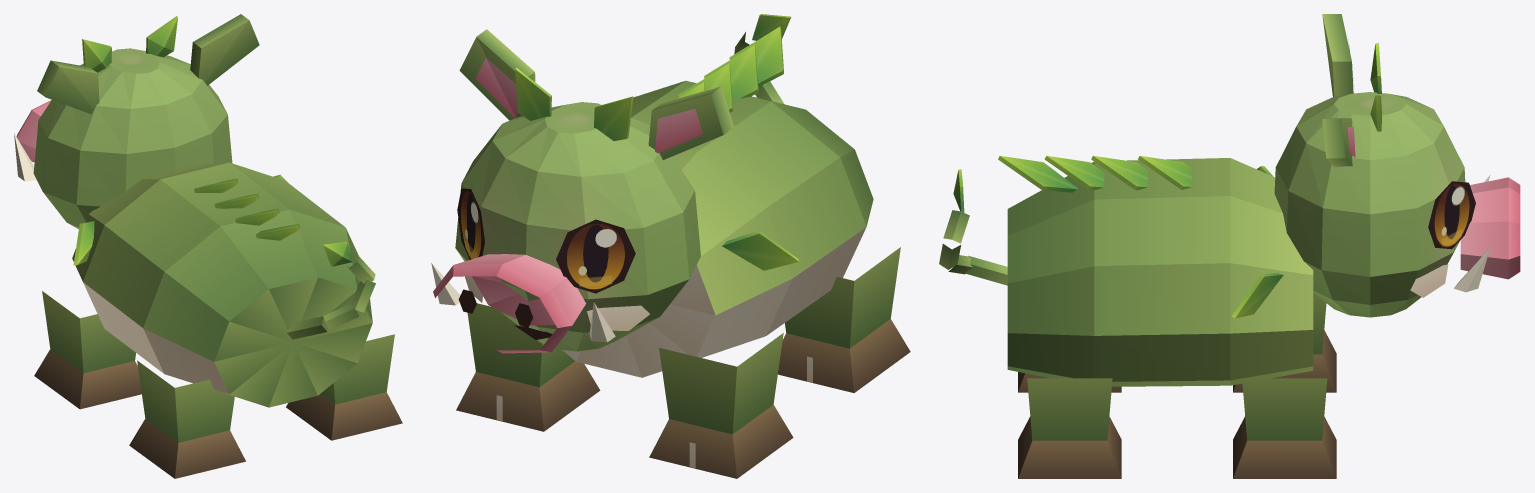
The model's file is BrambleBoar_S1_FacetedReview.glb.
3 renders of one model, left to right at view 1: azimuth 30°, elevation 25°; view 2: azimuth 150°, elevation 25°; view 3: azimuth 270°, elevation 25°, orthographic. The views are drawn at different scales.
Parts seen in each view (by area): view 1: Body, Head, LeftBackLeg, LeftFrontLeg, RightBackLeg, RightEar, LeftEar, Tail, BrowLeaf1, Snout, BrowLeaf-1, ShoulderLeaf-1 (+4 smaller); view 2: Body, Head, LeftFrontLeg, LeftBackLeg, RightFrontLeg, Snout, LeftEye, LeftEar, RightEar, ShoulderLeaf-1, RightEye, LeftEarPink (+11 smaller); view 3: Body, Head, RightFrontLeg, RightBackLeg, Snout, RightEye, Tail, LeftFrontLeg, LeftEar, BrambleMane3, RightEar, BrambleMane2 (+5 smaller).
Boxes of the visible parts, x1,y1,x2,y2 form: Body: (72,162,372,407); Head: (33,48,232,228); LeftBackLeg: (129,360,245,478); LeftFrontLeg: (34,291,141,409); RightBackLeg: (286,334,402,440); RightEar: (190,14,259,85); LeftEar: (37,60,99,113); Tail: (287,256,375,339); BrowLeaf1: (146,16,177,57); Snout: (16,100,51,162); BrowLeaf-1: (82,39,111,72); ShoulderLeaf-1: (73,221,94,265); Body: (562,80,873,377); Head: (455,102,700,351); LeftFrontLeg: (649,333,793,478); LeftBackLeg: (778,247,910,392); RightFrontLeg: (456,303,600,431); Snout: (433,254,585,353); LeftEye: (556,219,635,293); LeftEar: (648,86,733,159); RightEar: (459,29,535,120); ShoulderLeaf-1: (722,230,798,270); RightEye: (457,188,484,259); LeftEarPink: (655,108,702,153); Body: (1007,158,1313,386); Head: (1274,92,1465,317); RightFrontLeg: (1233,378,1336,478); RightBackLeg: (1018,378,1121,478); Snout: (1460,177,1520,279); RightEye: (1428,181,1475,249); Tail: (939,210,1007,285); LeftFrontLeg: (1233,293,1336,392); LeftEar: (1322,14,1353,96); BrambleMane3: (998,156,1077,192); RightEar: (1322,118,1352,166); BrambleMane2: (1044,155,1104,190).
Size of the model in its own units: 3.01 by 3.73 by 5.62.
Materials: 1 (1 with a texture image).
